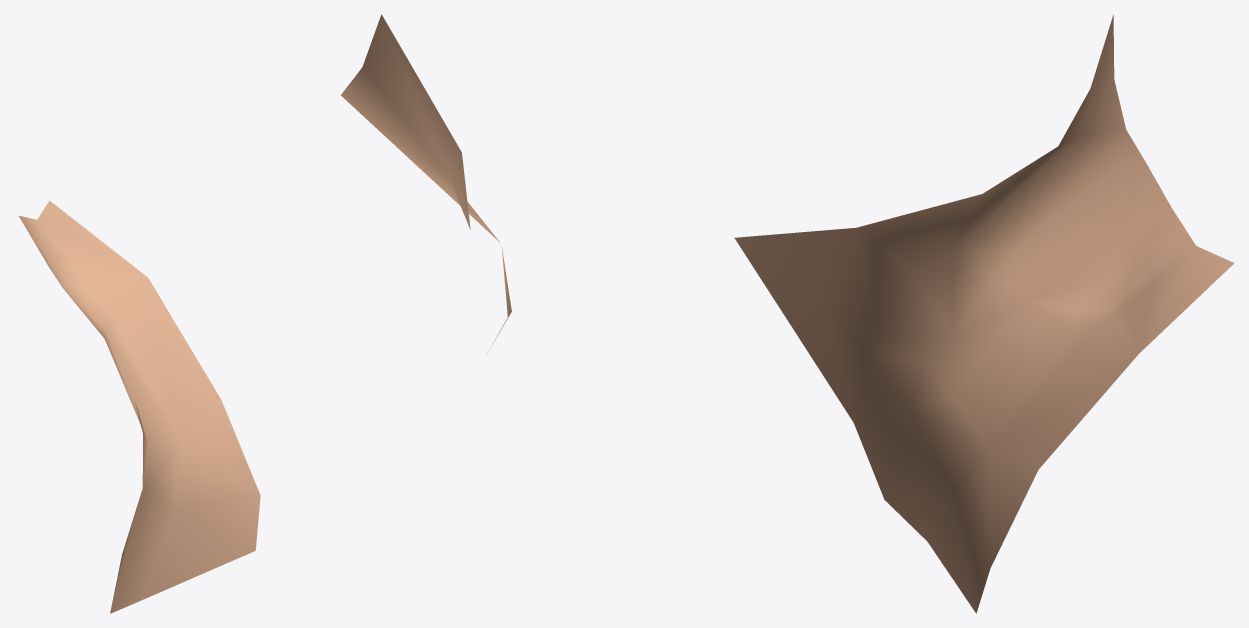
The model's file is intertragic-incisure-l.glb.
3 renders of one model, left to right at view 1: azimuth 30°, elevation 25°; view 2: azimuth 150°, elevation 25°; view 3: azimuth 270°, elevation 25°, orthographic. The views are drawn at different scales.
Visible parts, largest first — view 1: Intertragic incisure.l; view 2: Intertragic incisure.l; view 3: Intertragic incisure.l.
Boxes of the visible parts, box(x1,y1,x2,y2) form: Intertragic incisure.l: box(19, 200, 260, 613); Intertragic incisure.l: box(341, 14, 511, 352); Intertragic incisure.l: box(734, 14, 1234, 613).
Bounding box in the file's own units: 0.0054 × 0.0131 × 0.0108.
